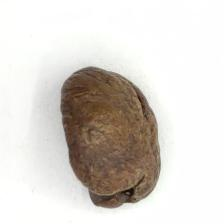NG: (75, 175, 152, 210)
